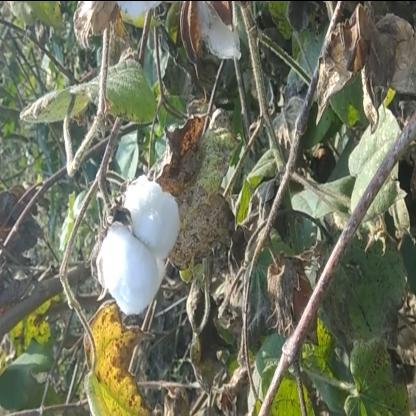cotton_ready: (90, 164, 184, 325)
